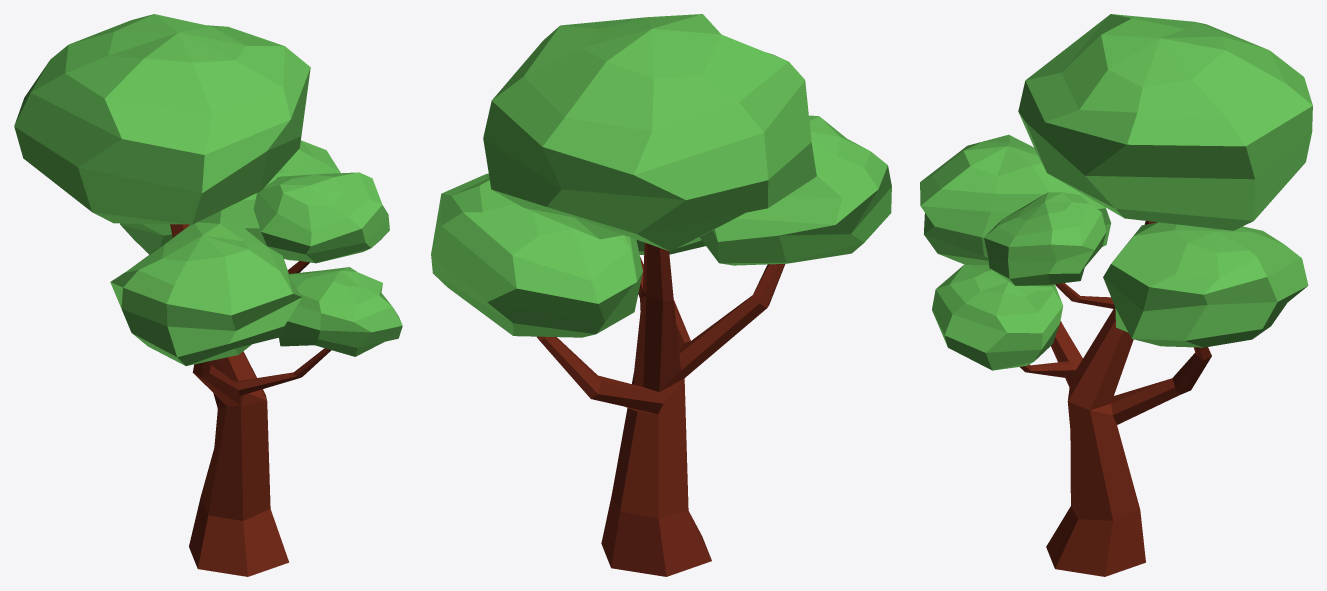
The model's file is AppleTree.obj.
3 renders of one model, left to right at view 1: azimuth 30°, elevation 25°; view 2: azimuth 150°, elevation 25°; view 3: azimuth 270°, elevation 25°, orthographic. The views are drawn at different scales.
Visible parts, largest first — view 1: AppleTree_Circle; view 2: AppleTree_Circle; view 3: AppleTree_Circle.
Boxes of the visible parts, x1,y1,x2,y2 form: AppleTree_Circle: (14, 14, 402, 576); AppleTree_Circle: (431, 14, 891, 576); AppleTree_Circle: (920, 14, 1312, 576).
Size of the model in its own units: 2.96 by 4.7 by 3.33.
